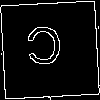C: (25, 25, 64, 75)
